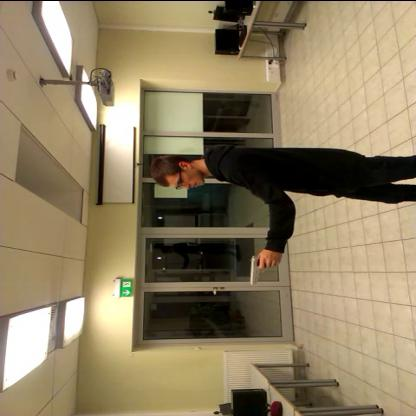Pistol: (242, 252, 276, 288)
